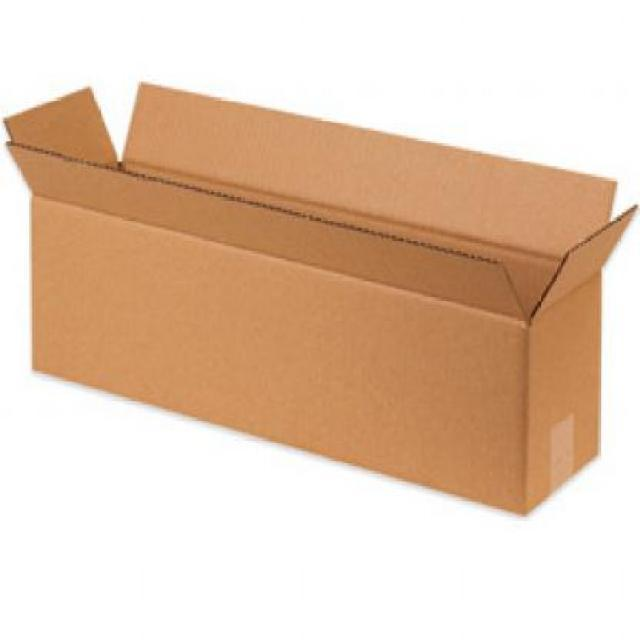box: (0, 82, 640, 520)
